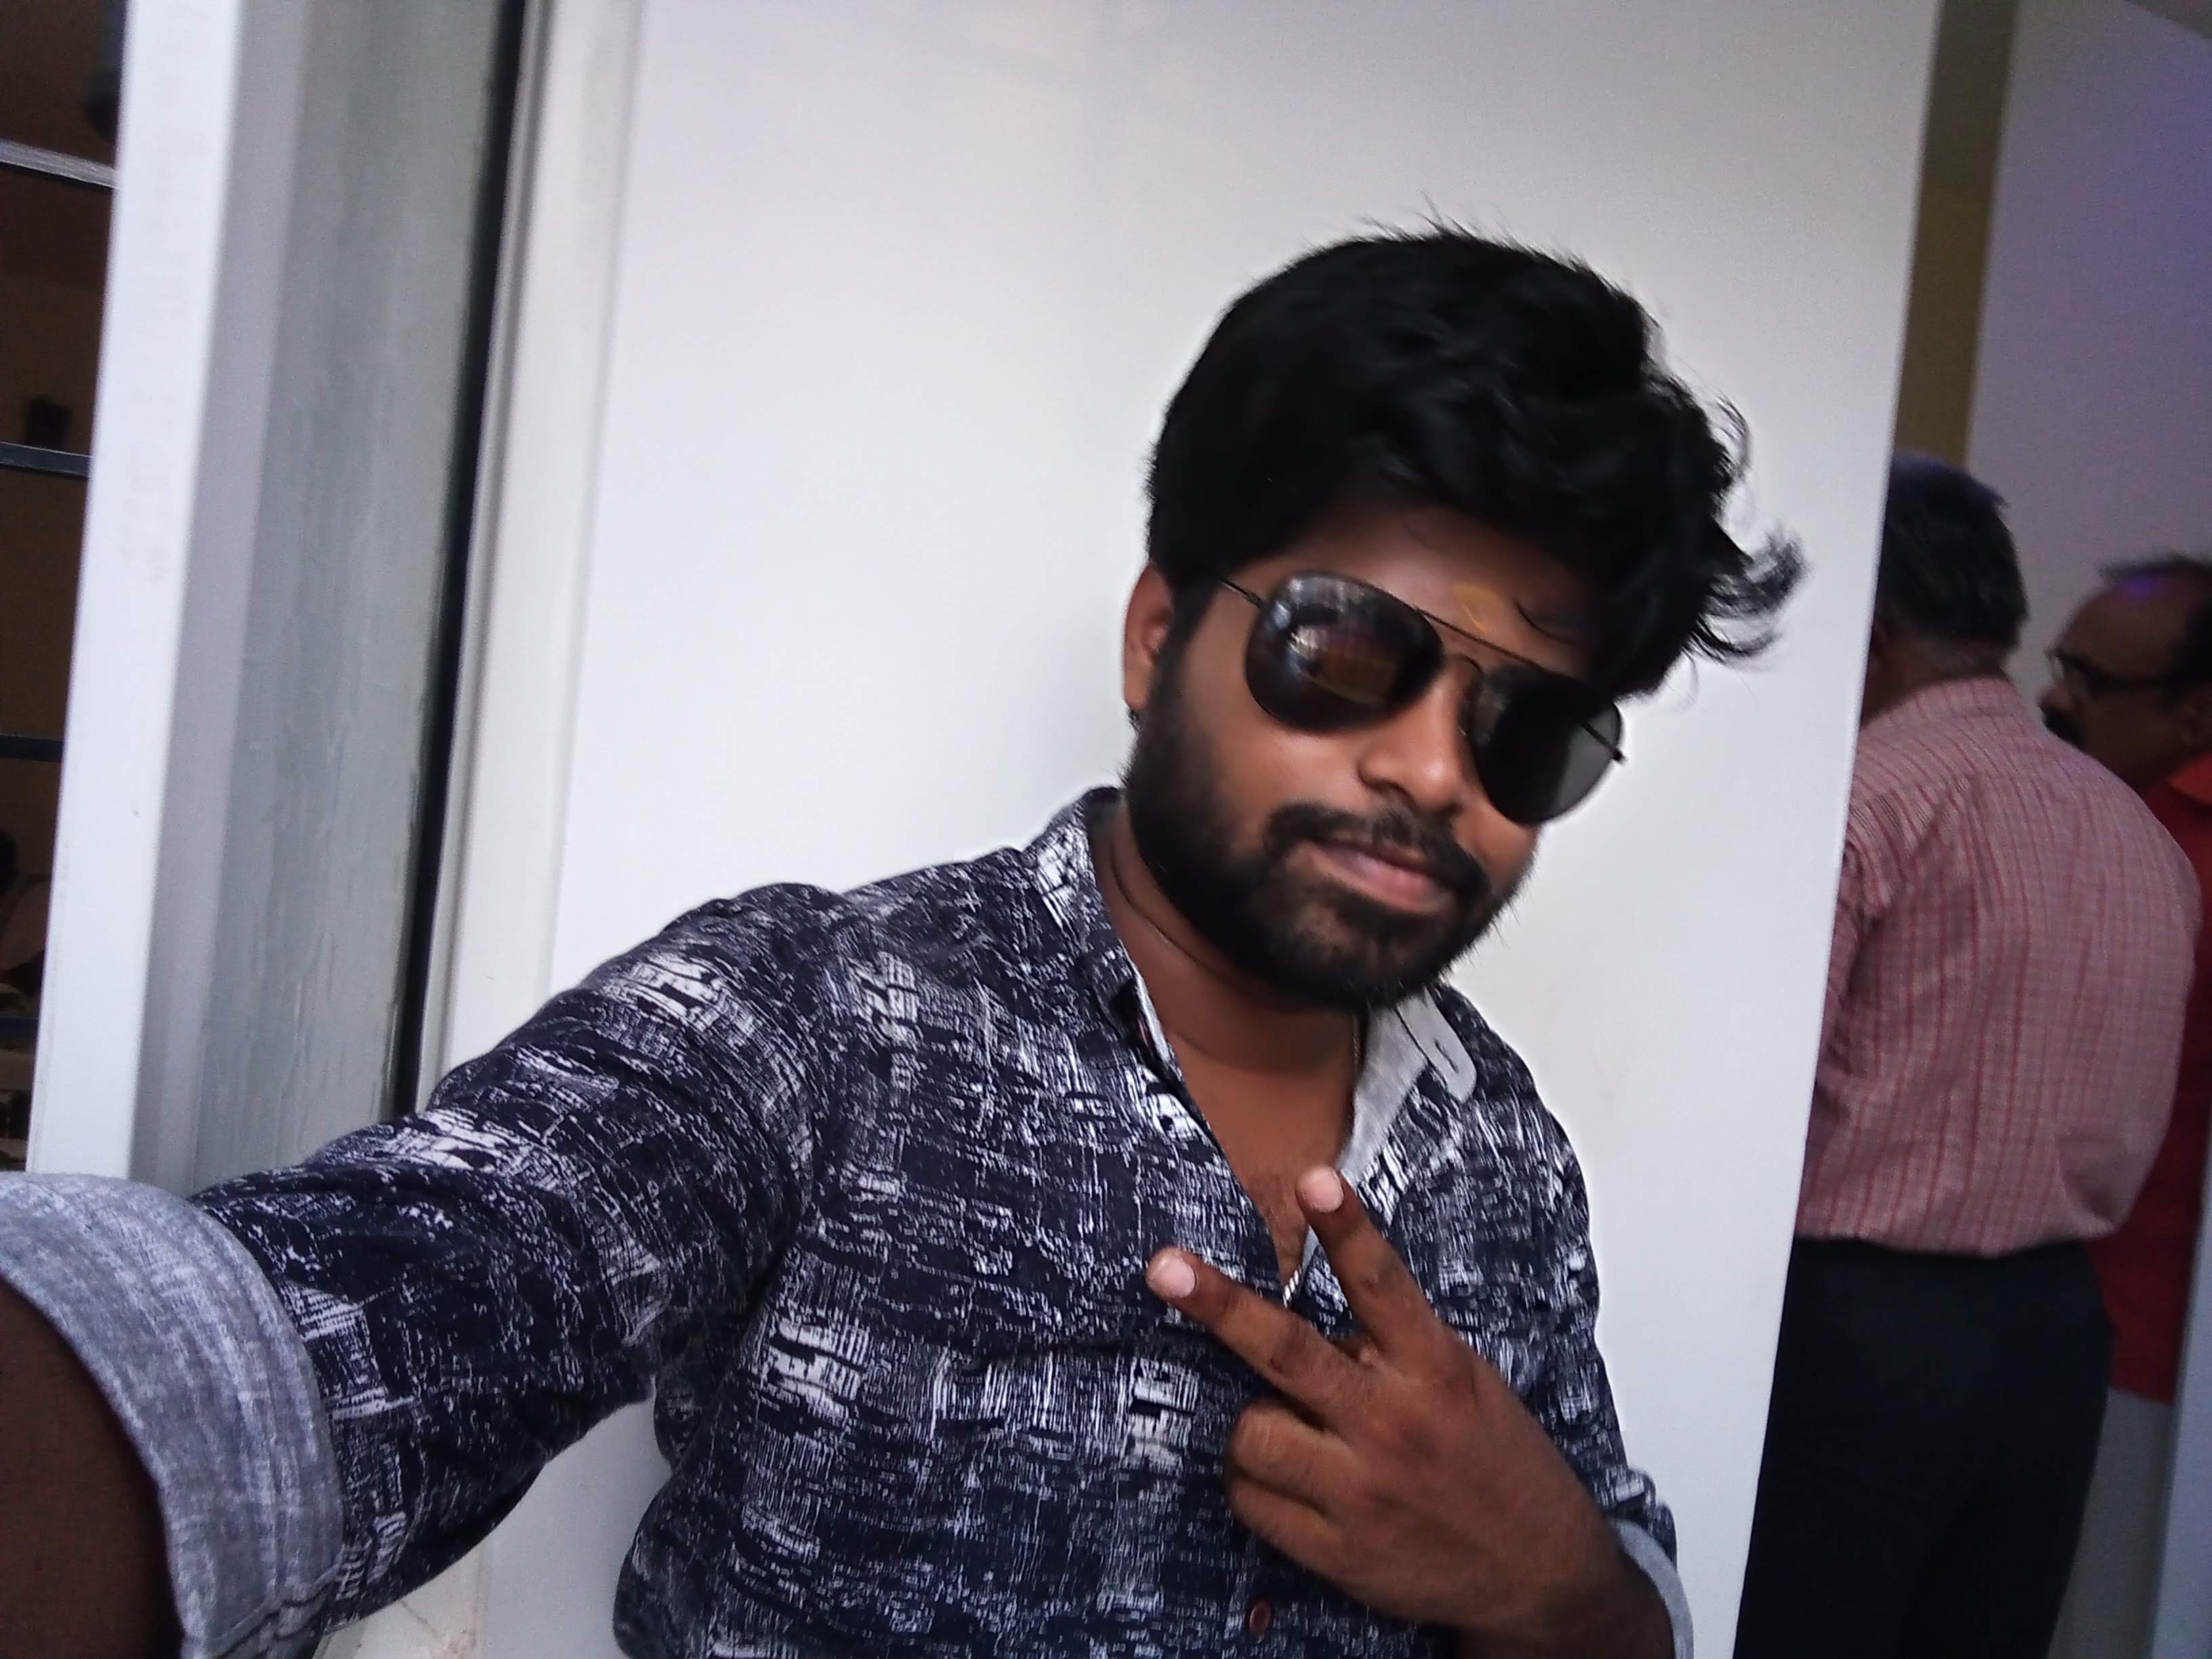face: (1084, 216, 1774, 987)
